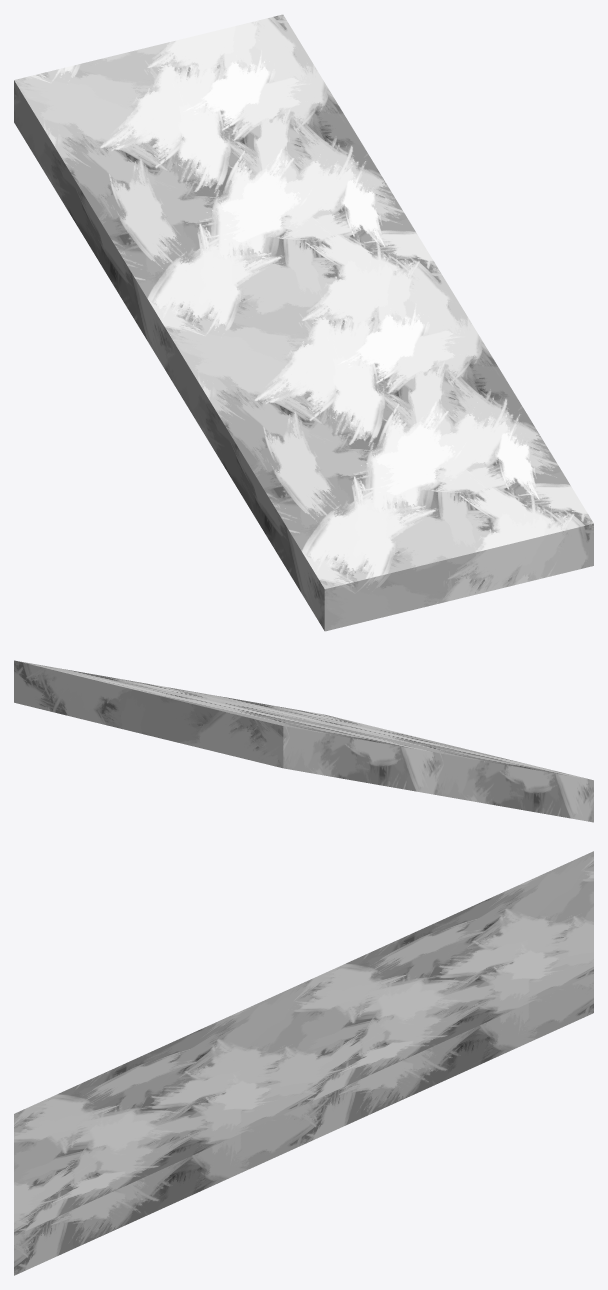
Rendered from Village_Clay_1m_Roof_A.fbx.
The picture shows the model from 3 angles, top to bottom: view 1: azimuth 30°, elevation 25°; view 2: azimuth 150°, elevation 25°; view 3: azimuth 270°, elevation 25°; orthographic projection. The views are drawn at different scales.
Visible parts, largest first — view 1: Village_Wall_2m_Roof_A.001; view 2: Village_Wall_2m_Roof_A.001; view 3: Village_Wall_2m_Roof_A.001.
Part boxes in pixels (bbox=[...]): Village_Wall_2m_Roof_A.001: bbox=[14, 14, 593, 631]; Village_Wall_2m_Roof_A.001: bbox=[14, 660, 593, 822]; Village_Wall_2m_Roof_A.001: bbox=[14, 851, 593, 1275].
Bounding box in the file's own units: 100 × 115 × 200.
